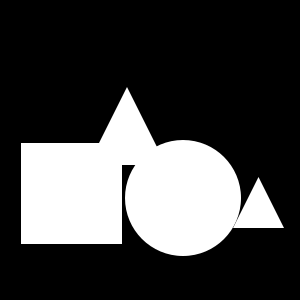circle: (21, 143, 122, 244)
rectangle: (125, 140, 241, 256)
triangle: (88, 87, 166, 165), (233, 177, 284, 228)
